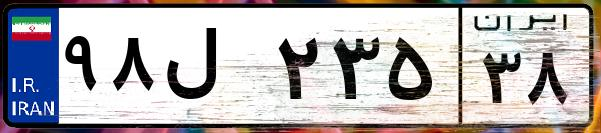2: (270, 28, 330, 110)
3: (330, 28, 385, 110), (475, 38, 525, 113)
5: (385, 28, 445, 110)
8: (525, 38, 570, 115), (110, 28, 158, 98)
9: (57, 26, 110, 100)
ل: (158, 20, 270, 120)
